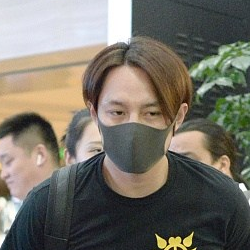mask: (96, 112, 168, 175)
